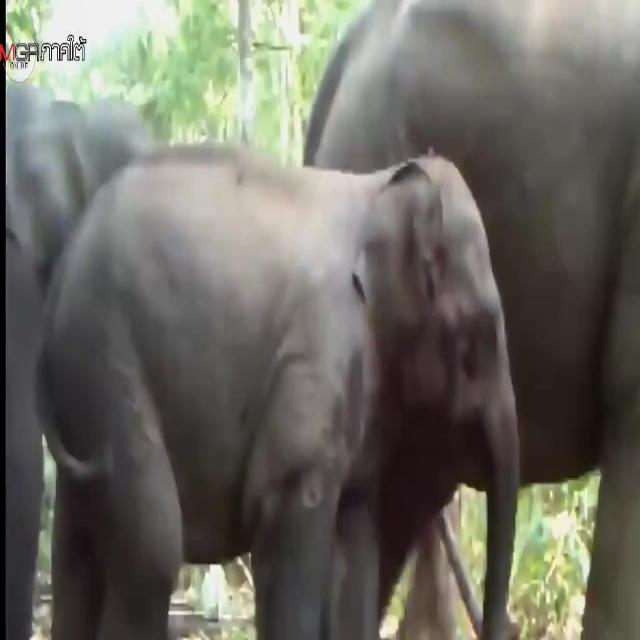Elephant: (50, 152, 522, 588), (361, 15, 640, 461)
